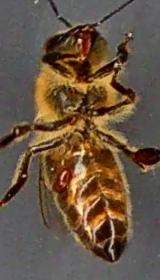varroa_mite: (46, 160, 76, 198)
